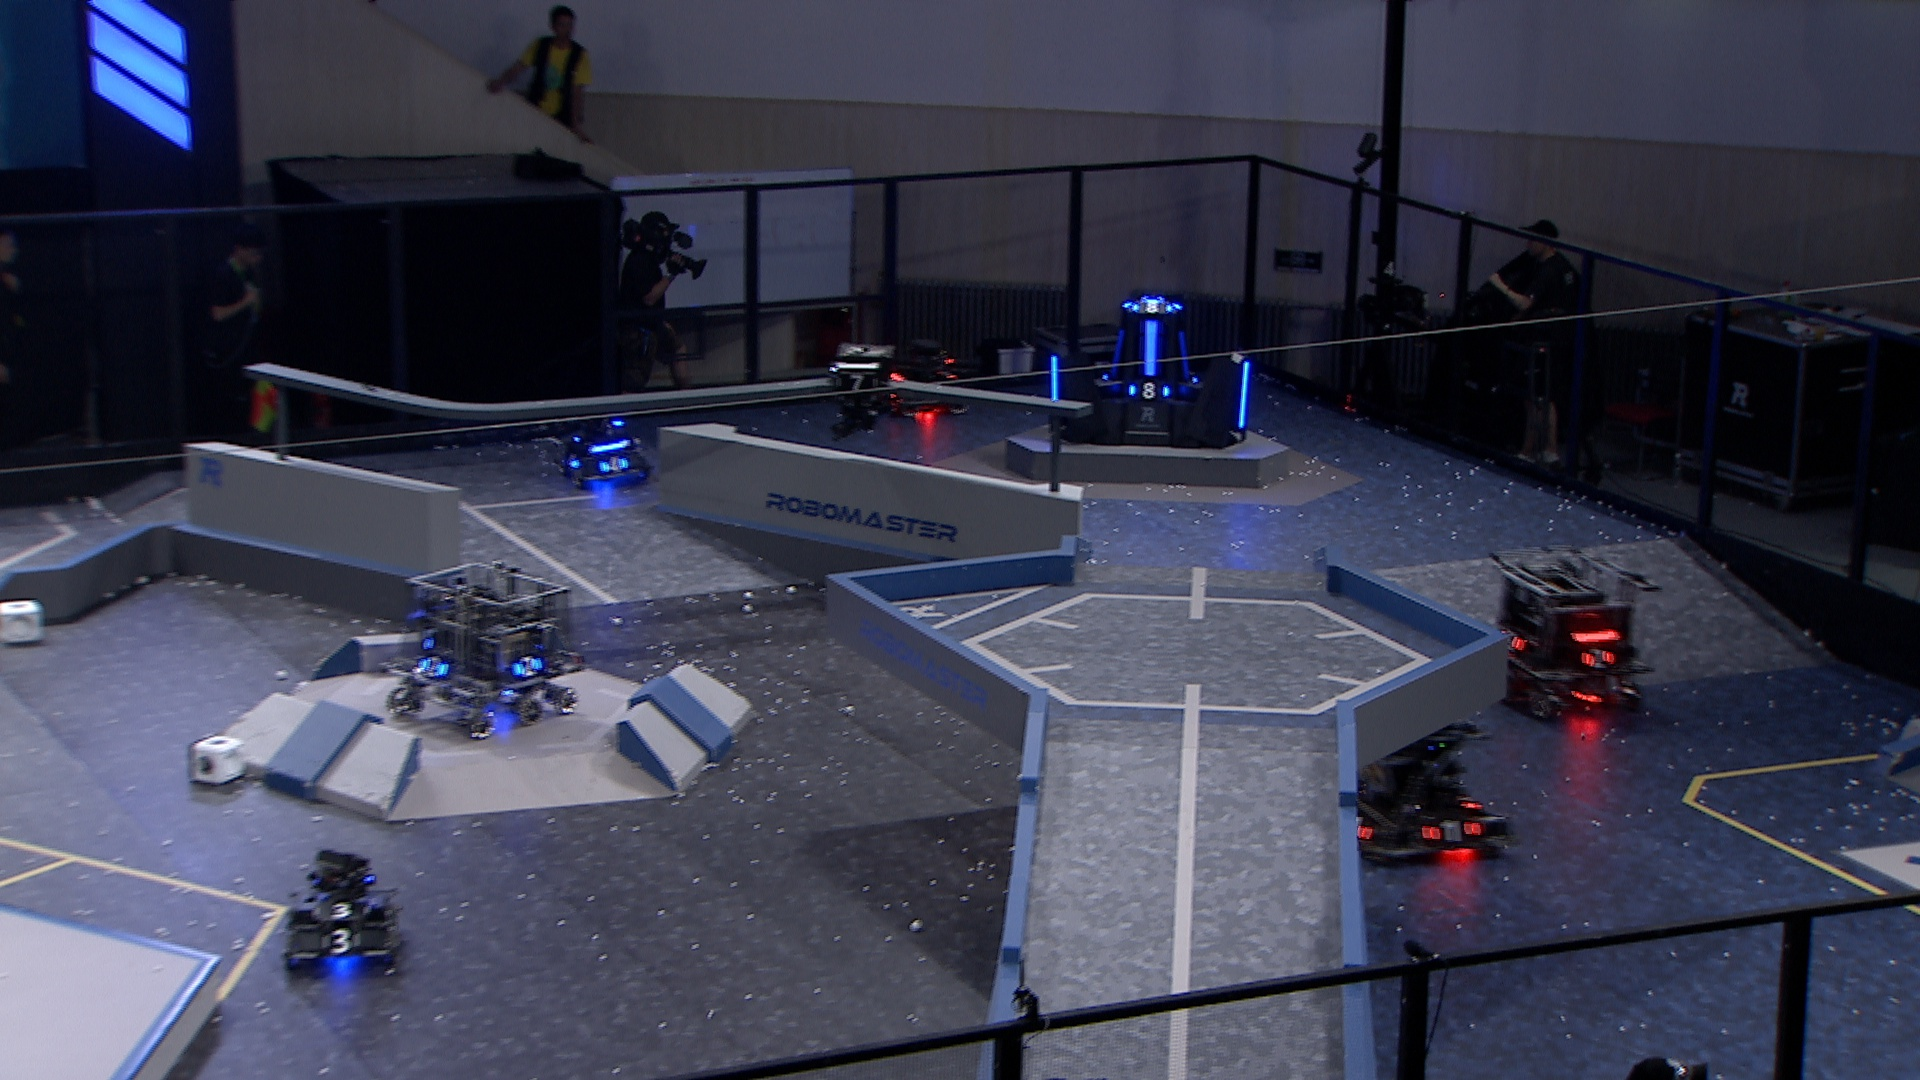armor: (1422, 816, 1484, 844), (1232, 357, 1253, 431), (318, 924, 363, 957), (1139, 320, 1163, 377), (1105, 324, 1127, 384), (314, 899, 372, 920), (1580, 644, 1619, 671), (831, 375, 882, 396), (510, 651, 545, 680), (418, 651, 451, 679), (1129, 297, 1174, 316), (1176, 332, 1195, 380), (1125, 382, 1171, 401), (1501, 622, 1523, 655), (596, 454, 629, 475), (1048, 351, 1060, 404), (562, 452, 583, 472)
base: (1043, 291, 1257, 452)
car: (377, 553, 593, 742), (1482, 541, 1660, 727), (1329, 698, 1515, 869), (278, 847, 405, 975), (539, 409, 655, 493), (878, 342, 973, 419)
watcher: (823, 338, 902, 439)
